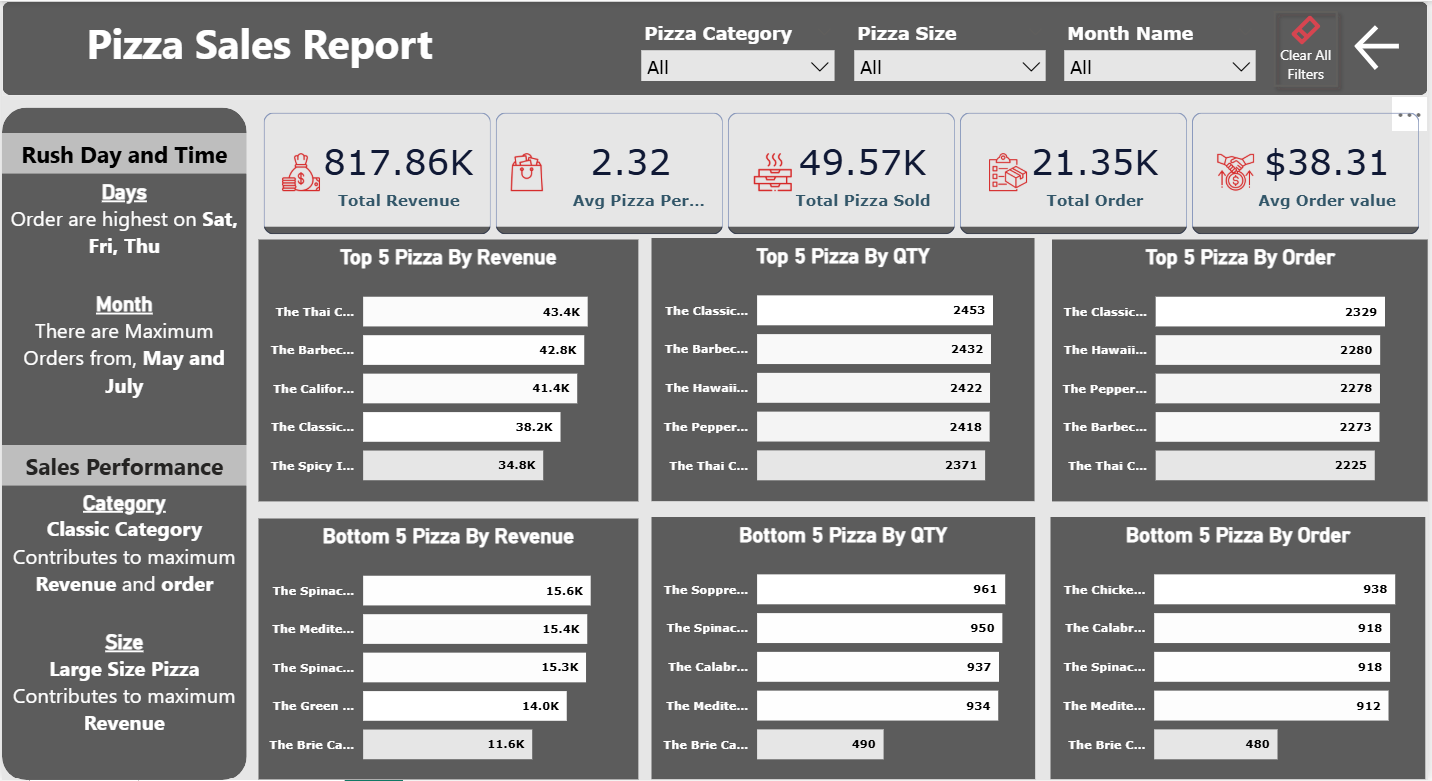

This screenshot's page, from the dashboard's own definition file:
{"tool":"powerbi","page":{"name":"Best & Worst Sale","canvas":[1500,820],"ordinal":1},"visuals":[{"type":"shape","box":[0,0,1499.8,99.4],"z":0},{"type":"shape","box":[0,111.8,257.3,708],"z":1000},{"type":"cardVisual","fields":{"Data":["_Measure.Total Revenue","_Measure.Avg Pizza Per Order","_Measure.Total Pizza Sold","_Measure.Total Order","_Measure.Avg Order value"]},"box":[269.7,111.8,1229.7,138.4],"z":2000},{"type":"clusteredBarChart","title":"Top 5 Pizza By Revenue","fields":{"Category":["pizza_sales.pizza_name"],"Y":["_Measure.Total Revenue"]},"box":[269.7,250.2,399.3,275],"z":3000},{"type":"textbox","box":[0,138.4,257.3,42.6],"z":4000},{"type":"textbox","box":[0,182.8,257.3,283.9],"z":5000},{"type":"textbox","box":[0,466.7,257.3,42.6],"z":6000},{"type":"textbox","box":[0,509.3,257.3,310.5],"z":7000},{"type":"slicer","fields":{"Values":["pizza_sales.pizza_category"]},"box":[661.7,17.8,222.3,81.8],"z":8000},{"type":"slicer","fields":{"Values":["pizza_sales.pizza_size"]},"box":[885.8,17.8,220.6,81.8],"z":9000},{"type":"slicer","fields":{"Values":["DateTable.Month Name"]},"box":[1106.3,17.8,220.6,81.8],"z":10000},{"type":"clusteredBarChart","title":"Top 5 Pizza By QTY","fields":{"Category":["pizza_sales.pizza_name"],"Y":["_Measure.Total Pizza Sold"]},"box":[683.2,248.4,402.8,276.8],"z":11000},{"type":"clusteredBarChart","title":"Top 5 Pizza By Order","fields":{"Category":["pizza_sales.pizza_name"],"Y":["_Measure.Total Order"]},"box":[1103.7,250.2,395.7,275],"z":12000},{"type":"clusteredBarChart","title":"Bottom 5 Pizza By Revenue","fields":{"Category":["pizza_sales.pizza_name"],"Y":["_Measure.Total Revenue"]},"box":[269.7,544.8,399.3,275],"z":13000},{"type":"clusteredBarChart","title":"Bottom 5 Pizza By QTY","fields":{"Category":["pizza_sales.pizza_name"],"Y":["_Measure.Total Pizza Sold"]},"box":[682.1,542.6,403.1,276.8],"z":14000},{"type":"clusteredBarChart","title":"Bottom 5 Pizza By Order","fields":{"Category":["pizza_sales.pizza_name"],"Y":["_Measure.Total Order"]},"box":[1102.9,542.6,394.2,276.8],"z":15000},{"type":"textbox","box":[56.6,9.1,427.8,79.2],"z":16000},{"type":"actionButton","box":[1418.4,17.4,64.6,62.8],"z":17000},{"type":"actionButton","box":[1327.7,1.7,85.5,97.7],"z":18000}]}

Visuals, with their boxes in screenshot pixels (x1, y1, x2, y2), scaled from the page's 1500x820 canvas onto the 1432x781 screenshot:
shape: (x1=0, y1=0, x2=1431, y2=95)
shape: (x1=0, y1=106, x2=246, y2=780)
cardVisual - _Measure.Total Revenue x _Measure.Avg Pizza Per Order: (x1=257, y1=106, x2=1431, y2=238)
"Top 5 Pizza By Revenue" clusteredBarChart: (x1=257, y1=238, x2=639, y2=500)
textbox: (x1=0, y1=132, x2=246, y2=172)
textbox: (x1=0, y1=174, x2=246, y2=445)
textbox: (x1=0, y1=445, x2=246, y2=485)
textbox: (x1=0, y1=485, x2=246, y2=780)
slicer - pizza_sales.pizza_category: (x1=632, y1=17, x2=844, y2=95)
slicer - pizza_sales.pizza_size: (x1=846, y1=17, x2=1056, y2=95)
slicer - DateTable.Month Name: (x1=1056, y1=17, x2=1267, y2=95)
"Top 5 Pizza By QTY" clusteredBarChart: (x1=652, y1=237, x2=1037, y2=500)
"Top 5 Pizza By Order" clusteredBarChart: (x1=1054, y1=238, x2=1431, y2=500)
"Bottom 5 Pizza By Revenue" clusteredBarChart: (x1=257, y1=519, x2=639, y2=780)
"Bottom 5 Pizza By QTY" clusteredBarChart: (x1=651, y1=517, x2=1036, y2=780)
"Bottom 5 Pizza By Order" clusteredBarChart: (x1=1053, y1=517, x2=1429, y2=780)
textbox: (x1=54, y1=9, x2=462, y2=84)
actionButton: (x1=1354, y1=17, x2=1416, y2=76)
actionButton: (x1=1268, y1=2, x2=1349, y2=95)
